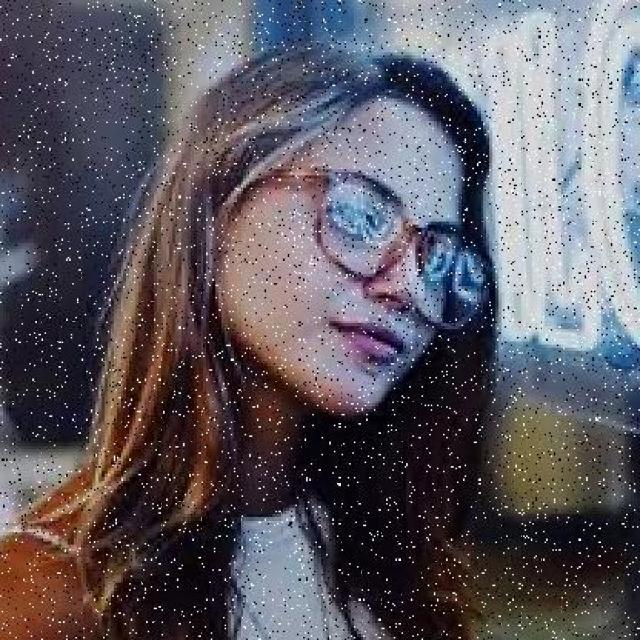glasses: (304, 152, 518, 352)
